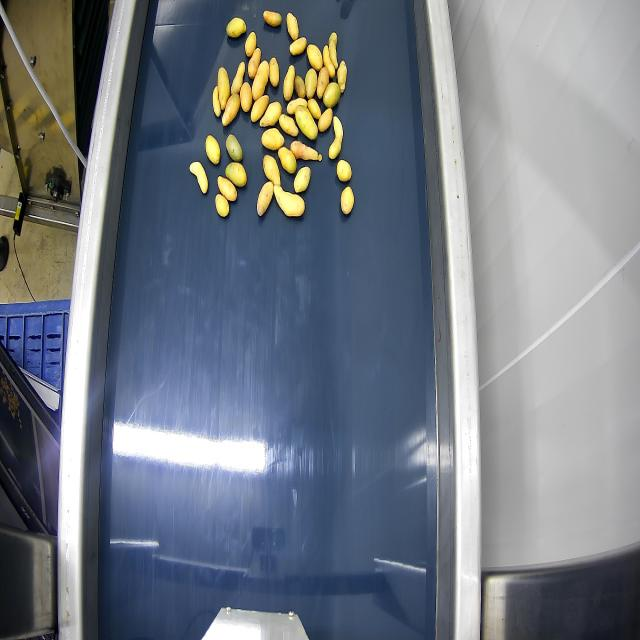Baby Potato: (274, 186, 304, 216), (295, 107, 318, 140), (252, 61, 269, 100), (190, 161, 208, 194), (290, 141, 321, 160), (329, 117, 343, 159), (257, 182, 273, 215), (222, 95, 239, 126), (260, 102, 281, 127), (218, 67, 230, 110), (250, 95, 269, 122), (263, 155, 280, 185), (261, 128, 283, 151), (225, 162, 246, 186), (278, 147, 296, 174), (231, 61, 245, 95), (217, 176, 236, 201), (307, 44, 323, 72), (323, 82, 340, 108), (283, 65, 295, 101), (205, 136, 220, 164), (279, 114, 298, 136), (226, 135, 242, 161), (322, 46, 335, 78), (340, 186, 354, 215), (247, 48, 260, 79), (294, 168, 310, 193), (227, 17, 246, 38), (317, 67, 329, 99), (240, 82, 252, 112), (328, 32, 338, 68), (305, 69, 317, 98), (286, 13, 298, 40), (245, 31, 257, 58), (287, 98, 306, 115), (215, 194, 229, 217), (318, 109, 332, 132), (307, 98, 321, 120), (337, 160, 351, 182), (269, 57, 279, 87), (263, 11, 281, 27), (337, 61, 346, 92), (212, 86, 221, 117), (290, 38, 306, 55), (294, 75, 305, 97)
